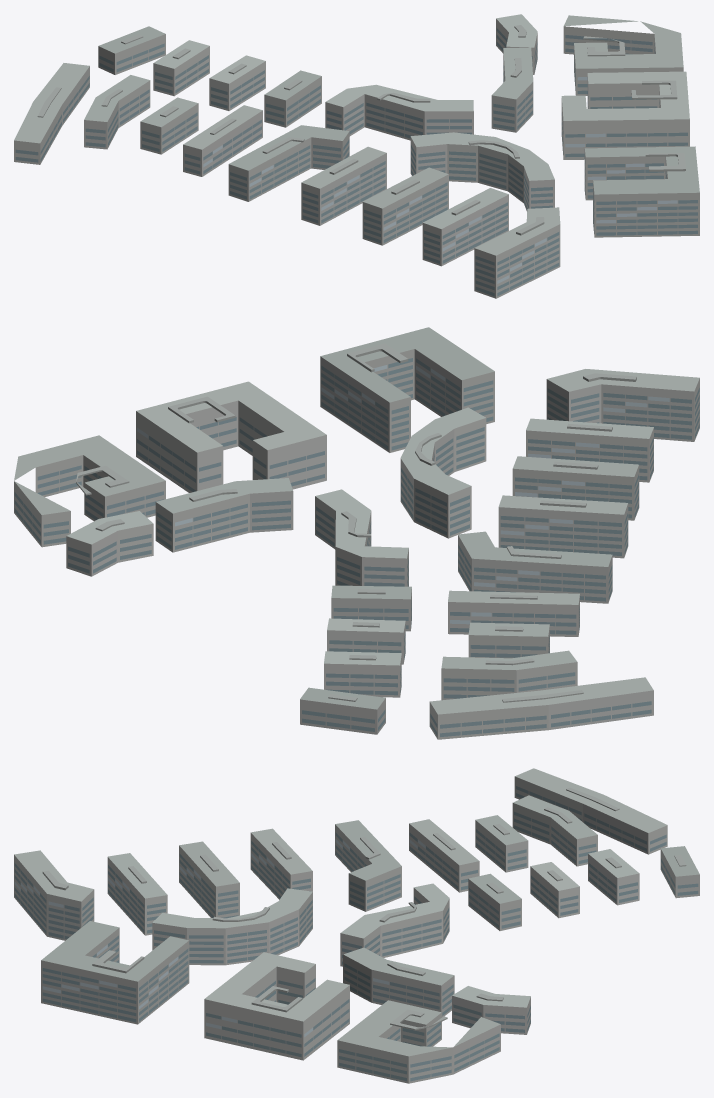
Rendered from apt-a15809002.glb.
3 views of the same model, one above another, from view 1: azimuth 30°, elevation 25°; view 2: azimuth 150°, elevation 25°; view 3: azimuth 270°, elevation 25° (orthographic). The views are drawn at different scales.
Visible parts, largest first — view 1: apt-a15809002; view 2: apt-a15809002; view 3: apt-a15809002.
Part boxes in pixels (<box>): apt-a15809002: <box>14,14,699,298</box>; apt-a15809002: <box>14,327,699,739</box>; apt-a15809002: <box>14,768,699,1083</box>.
Size of the model in its own units: 309 by 22 by 304.
